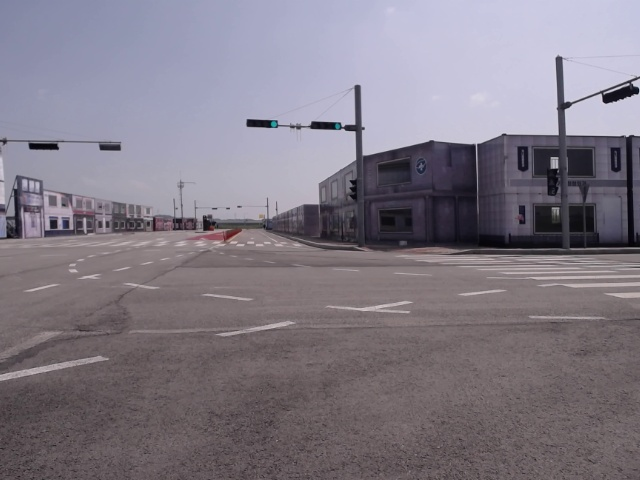straight_green_4: (246, 119, 278, 128), (311, 122, 341, 131)
